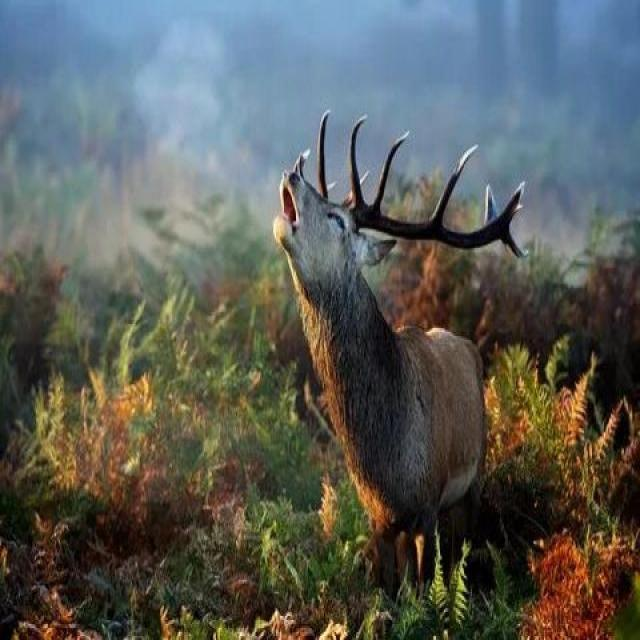deer: (216, 97, 566, 594)
